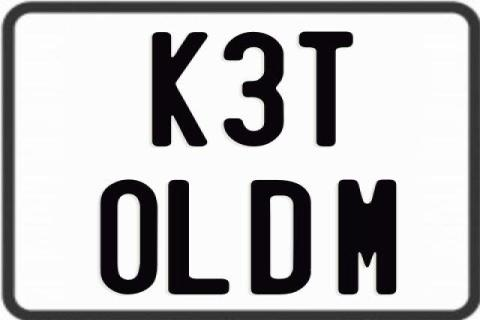0: (222, 30, 287, 150), (97, 180, 159, 298)
D: (252, 180, 314, 296)
K: (152, 31, 212, 147)
L: (167, 179, 231, 299)
M: (338, 179, 401, 295)
T: (297, 29, 354, 147)
